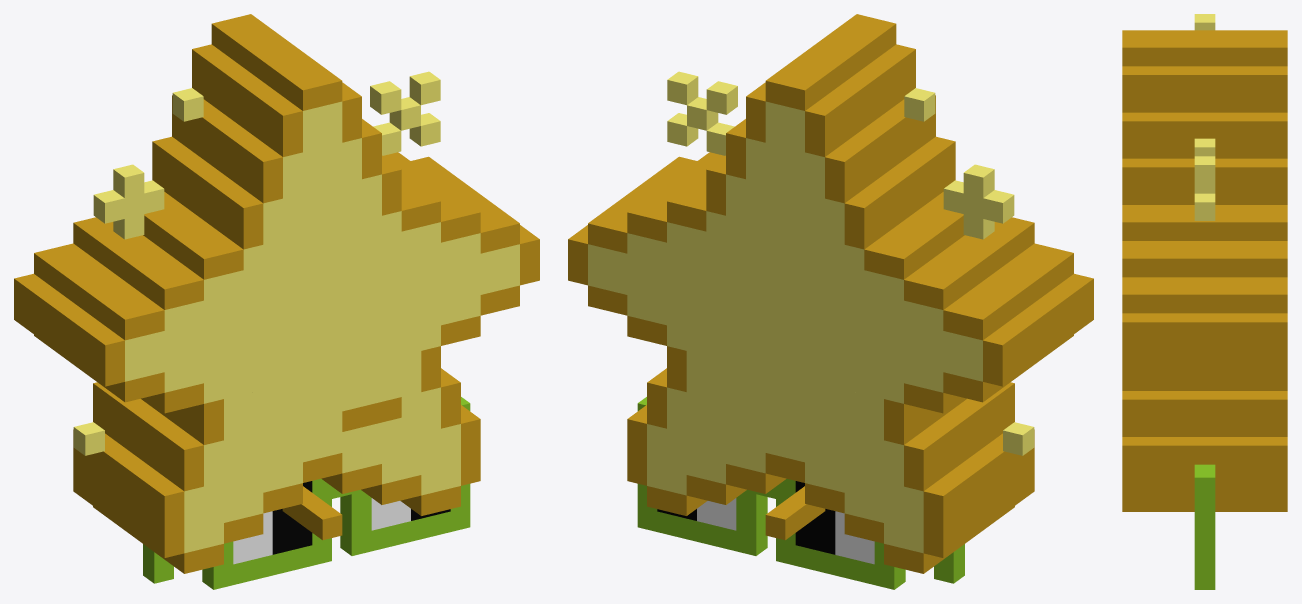
The model's file is star.glb.
3 renders of one model, left to right at view 1: azimuth 30°, elevation 25°; view 2: azimuth 150°, elevation 25°; view 3: azimuth 270°, elevation 25°, orthographic. The views are drawn at different scales.
Parts seen in each view (by area): view 1: base, glow, glasses, layer-2, a1, mouth; view 2: base, glow, glasses, layer-2, a1; view 3: base, glasses, glow.
Boxes of the visible parts, left/top/right/bottom form: base: left=14, top=14, right=539, bottom=573; glow: left=73, top=71, right=440, bottom=455; glasses: left=143, top=397, right=470, bottom=589; layer-2: left=233, top=481, right=450, bottom=564; a1: left=282, top=486, right=342, bottom=540; mouth: left=342, top=397, right=401, bottom=431; base: left=568, top=14, right=1093, bottom=573; glow: left=667, top=71, right=1034, bottom=455; glasses: left=637, top=397, right=964, bottom=589; layer-2: left=657, top=481, right=874, bottom=564; a1: left=765, top=486, right=825, bottom=540; base: left=1122, top=30, right=1287, bottom=511; glasses: left=1194, top=464, right=1215, bottom=589; glow: left=1194, top=14, right=1215, bottom=220.
Bounding box in the file's own units: 22 × 25 × 8.
Materials: 8 (8 with a texture image).
